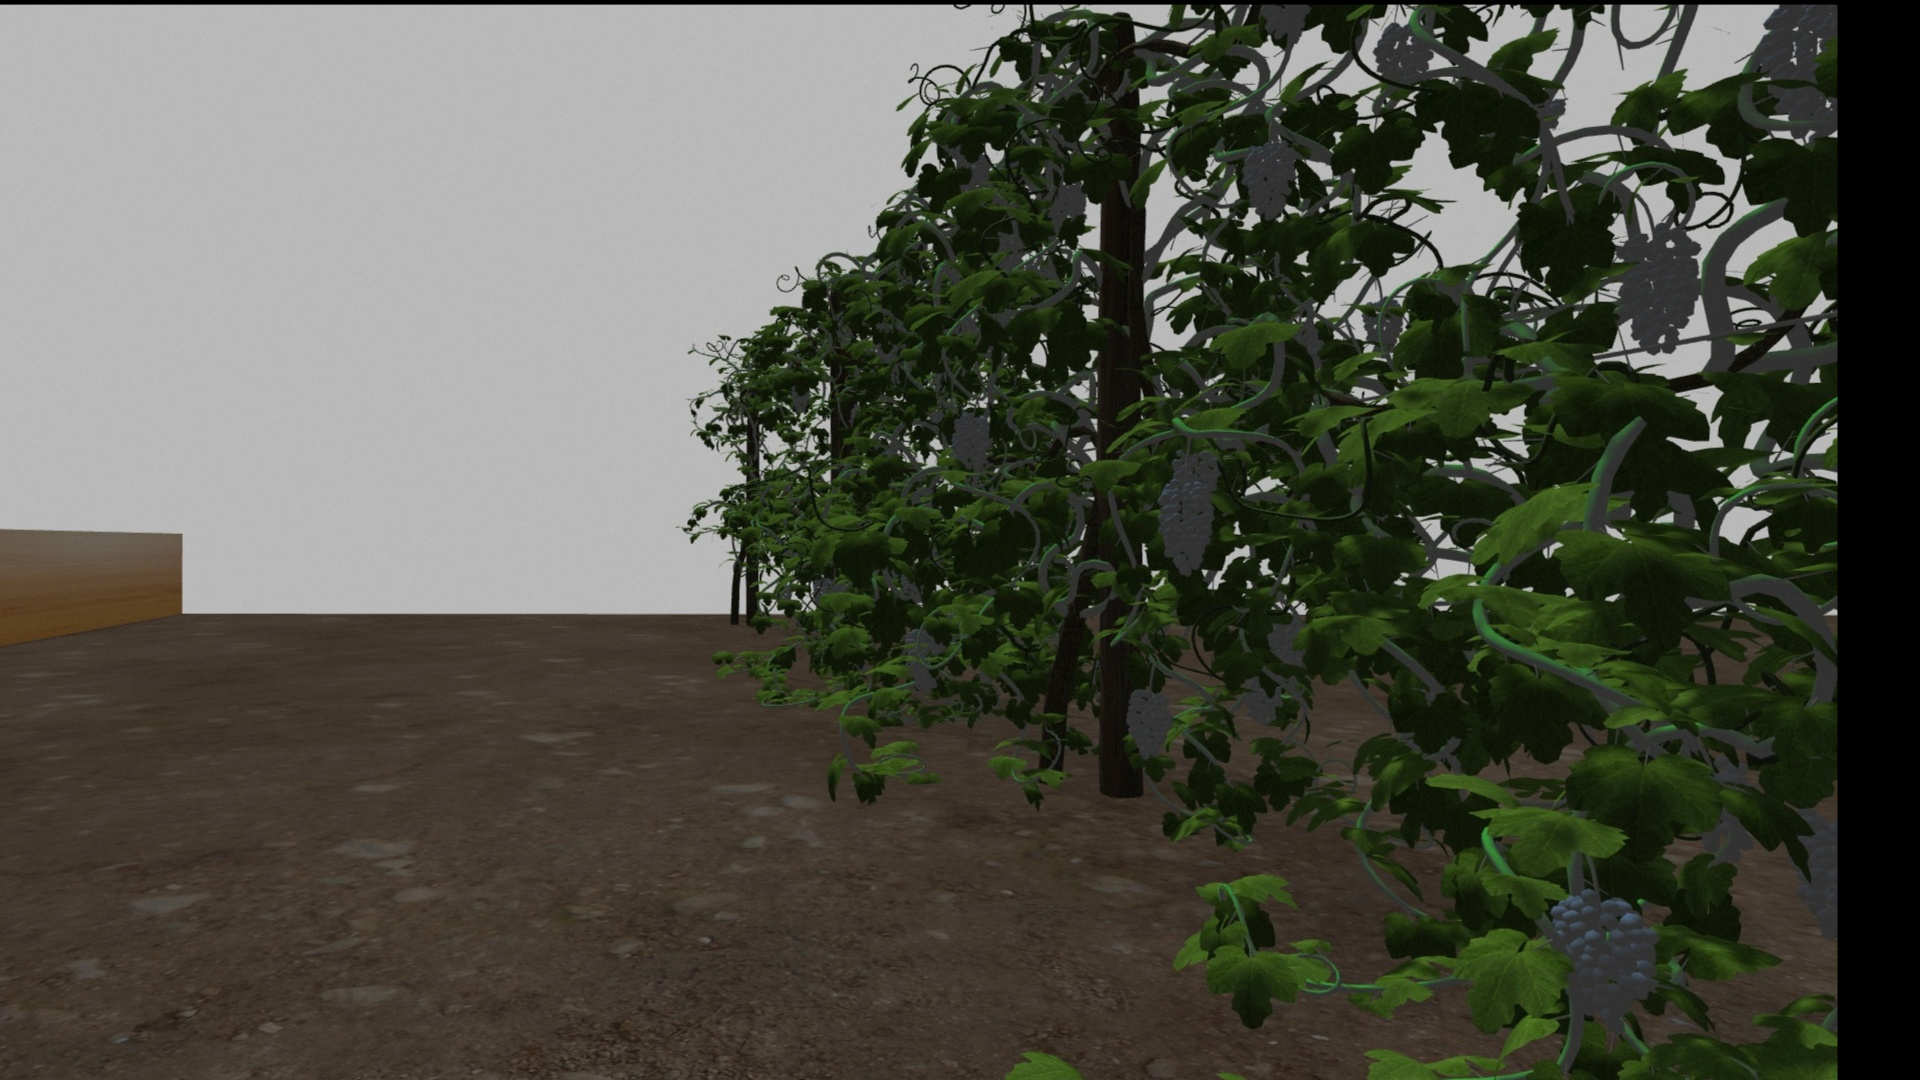grape: (1545, 887, 1654, 1033), (1614, 222, 1702, 353), (1758, 11, 1832, 146), (1155, 477, 1213, 580), (1240, 141, 1296, 220), (1374, 22, 1431, 99), (1124, 686, 1174, 761), (903, 625, 948, 696), (949, 407, 992, 469), (1046, 179, 1087, 233), (789, 382, 808, 414)
